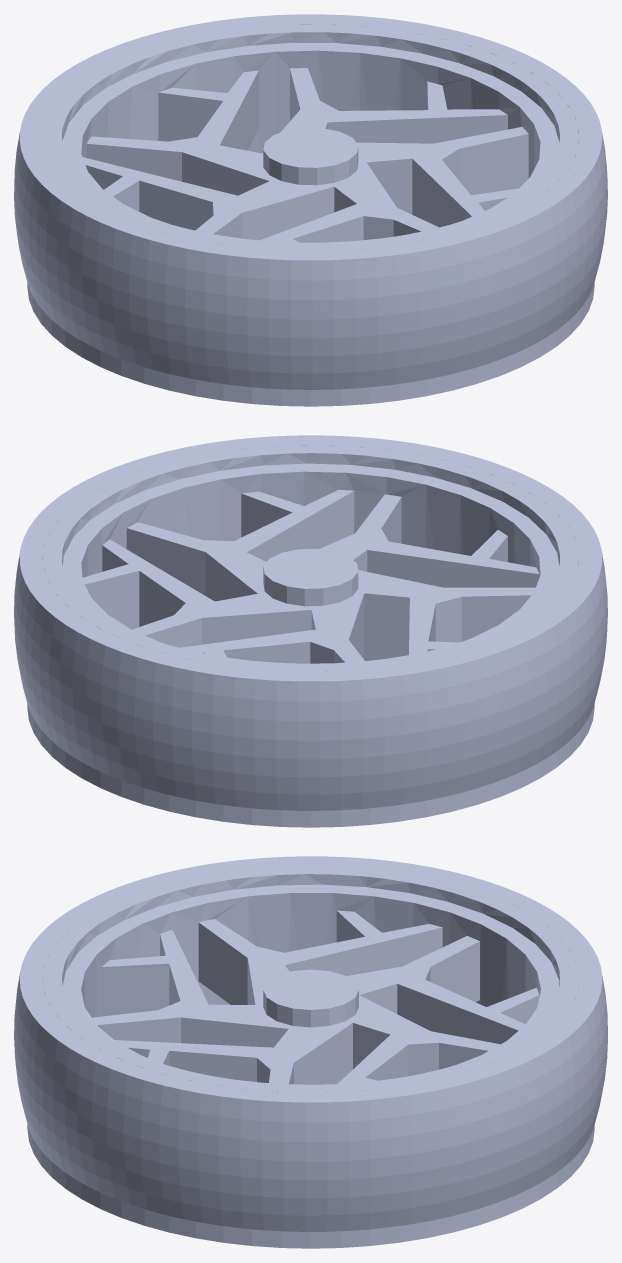
Rendered from wheel.fbx.
The picture shows the model from 3 angles, top to bottom: view 1: azimuth 30°, elevation 25°; view 2: azimuth 150°, elevation 25°; view 3: azimuth 270°, elevation 25°; orthographic projection.
Parts seen in each view (by area): view 1: ÊäÈë1; view 2: ÊäÈë1; view 3: ÊäÈë1.
Boxes of the visible parts, box(x1,y1,x2,y2) form: ÊäÈë1: box(14, 14, 607, 406); ÊäÈë1: box(14, 435, 607, 827); ÊäÈë1: box(14, 856, 607, 1248).
Bounding box in the file's own units: 6.1 × 1.89 × 6.1.
